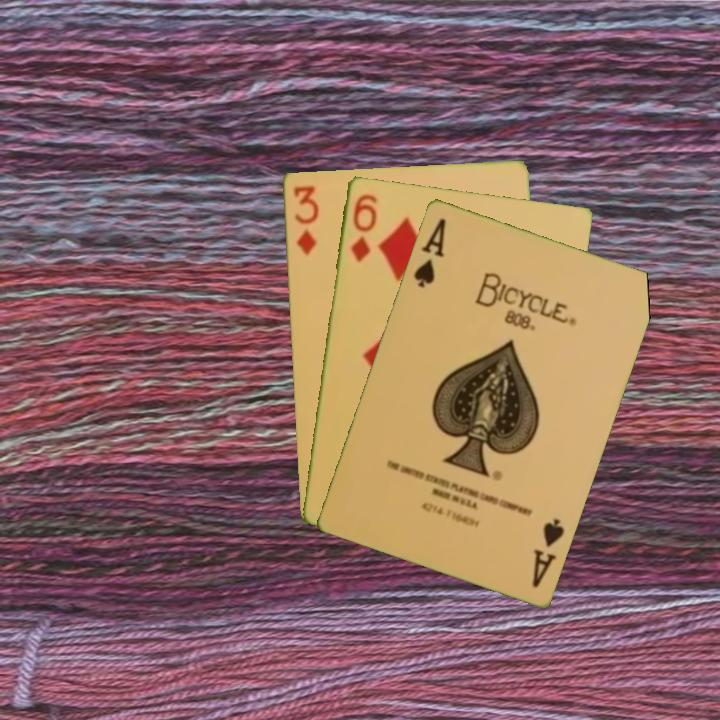3d: (289, 181, 321, 258)
6d: (347, 190, 380, 265)
As: (410, 214, 449, 290), (528, 514, 567, 590)
